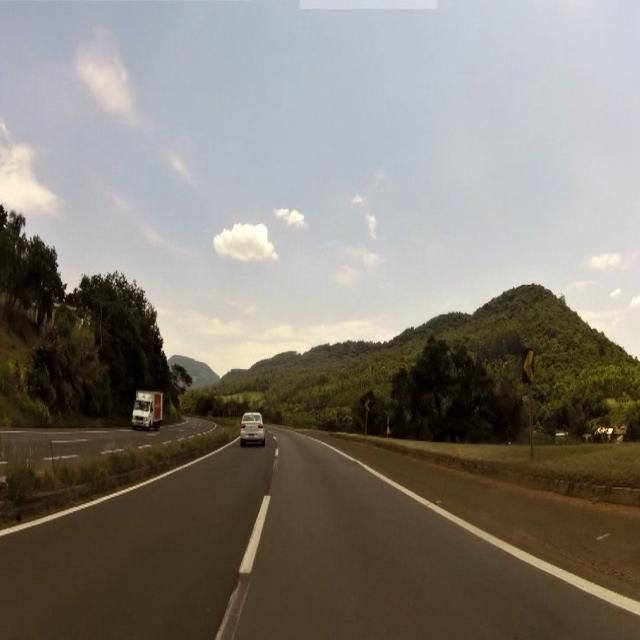Del: (516, 348, 536, 386), (363, 394, 374, 415), (317, 413, 320, 419)
